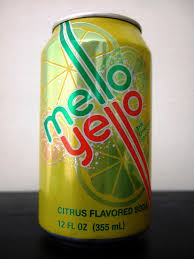can: (37, 10, 157, 244)
